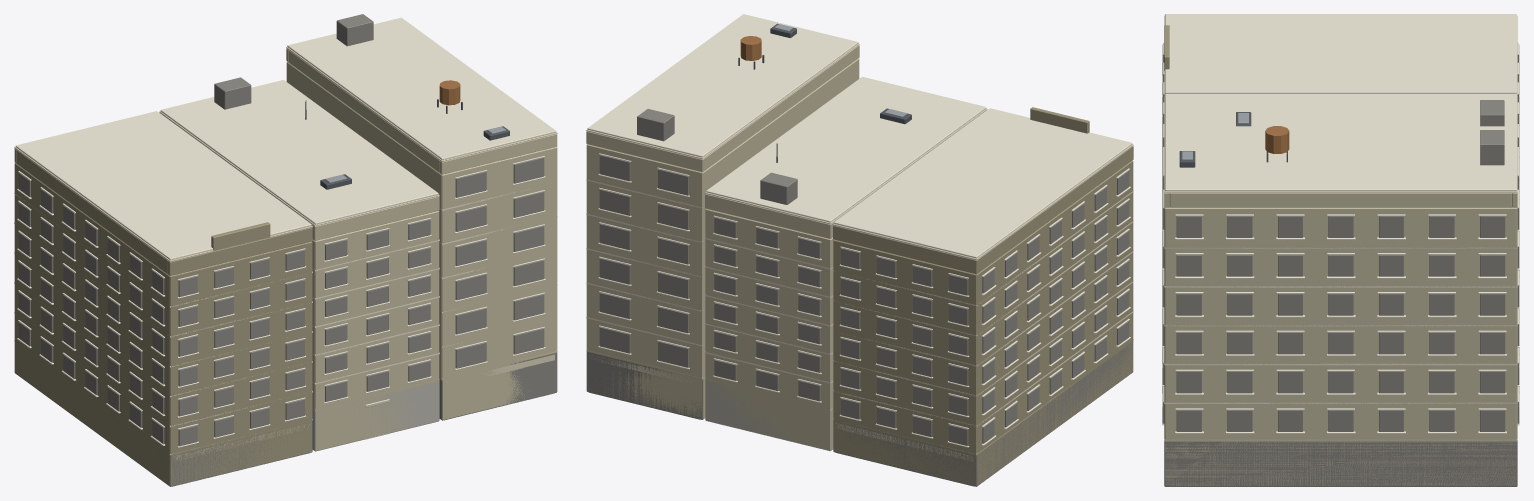
The model's file is VG_Bld_Downtown_08.fbx.
3 views of the same model, side by side, from view 1: azimuth 30°, elevation 25°; view 2: azimuth 150°, elevation 25°; view 3: azimuth 270°, elevation 25° (orthographic). The views are drawn at different scales.
Visible parts, largest first — view 1: VG_Bld_Downtown_08_Body; view 2: VG_Bld_Downtown_08_Body; view 3: VG_Bld_Downtown_08_Body.
Boxes of the visible parts, x1,y1,x2,y2 form: VG_Bld_Downtown_08_Body: [14, 14, 557, 486]; VG_Bld_Downtown_08_Body: [586, 14, 1133, 486]; VG_Bld_Downtown_08_Body: [1162, 14, 1519, 486].
Bounding box in the file's own units: 46 × 32.04 × 32.
